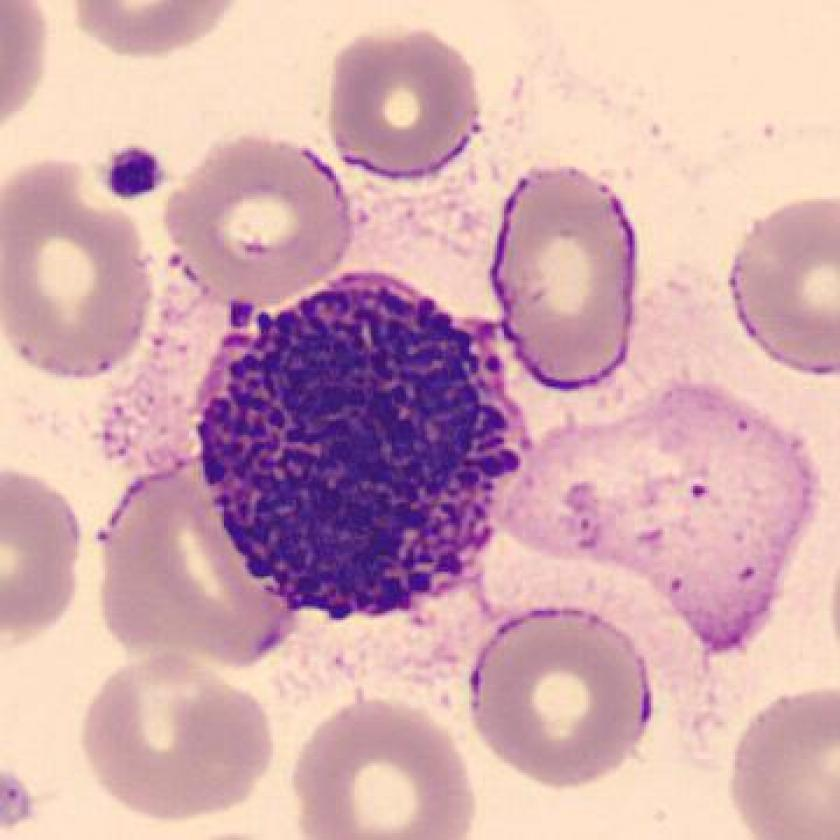basophil: (188, 265, 531, 635)
